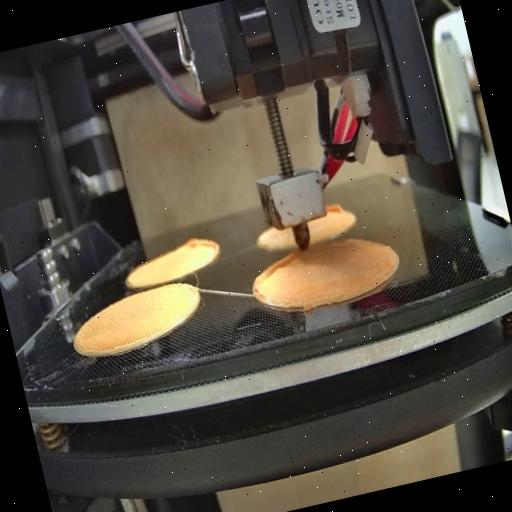over_extrusion: (248, 248, 308, 300), (186, 230, 224, 270), (324, 199, 345, 220)
